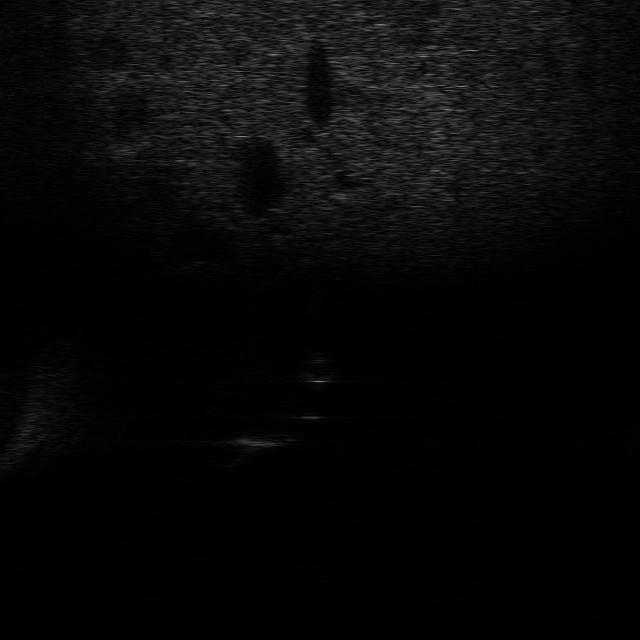ball: (290, 348, 342, 388)
square cage: (215, 422, 300, 467)
